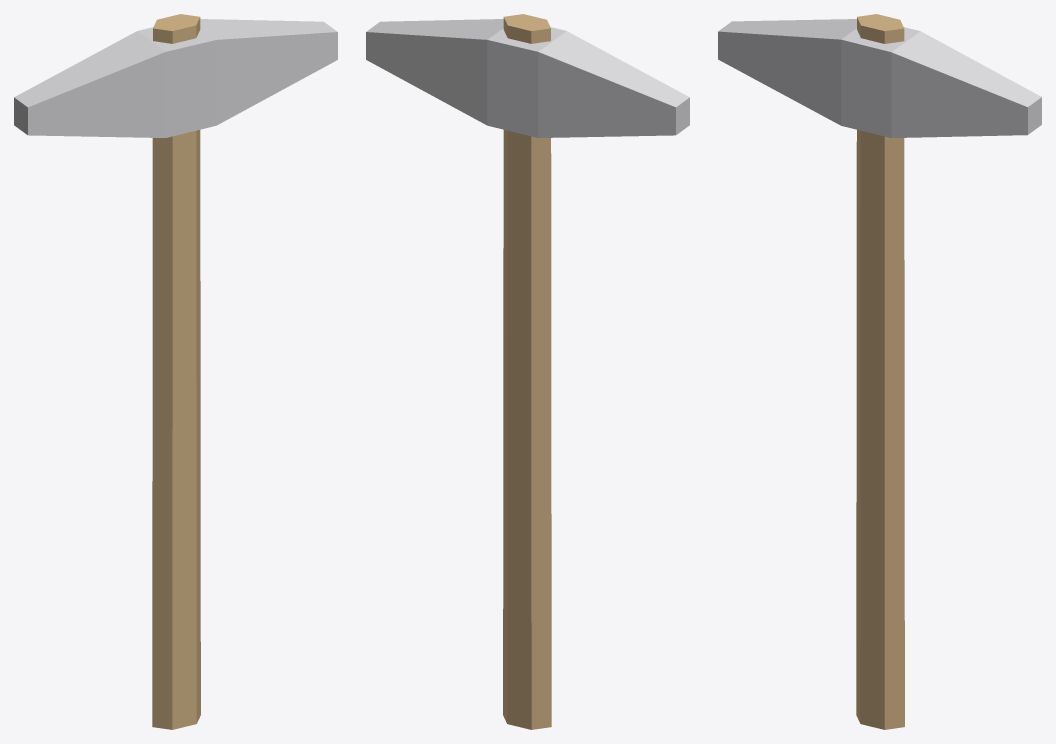
The model's file is hammer.fbx.
3 renders of one model, left to right at view 1: azimuth 30°, elevation 25°; view 2: azimuth 150°, elevation 25°; view 3: azimuth 330°, elevation 25°, orthographic.
Parts seen in each view (by area): view 1: hammer; view 2: hammer; view 3: hammer.
Boxes of the visible parts, x1,y1,x2,y2 form: hammer: (14, 14, 337, 729); hammer: (366, 14, 689, 729); hammer: (718, 14, 1041, 729).
Bounding box in the file's own units: 14.86 × 32 × 2.4.
